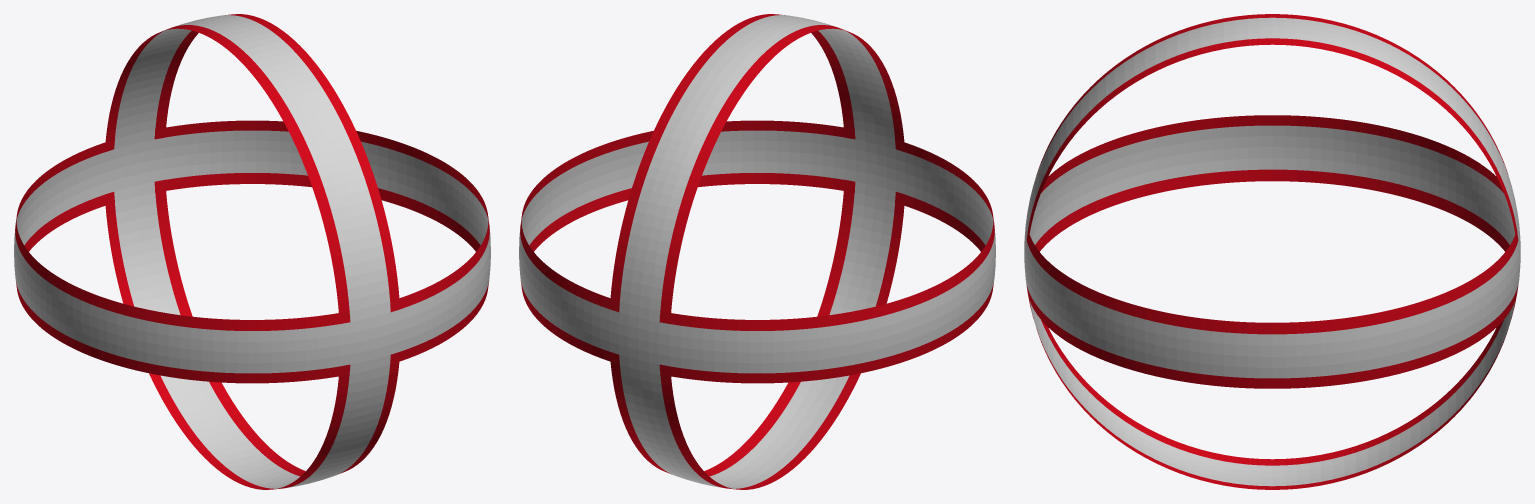
The model's file is planet5.fbx.
3 views of the same model, side by side, from view 1: azimuth 30°, elevation 25°; view 2: azimuth 150°, elevation 25°; view 3: azimuth 270°, elevation 25° (orthographic). The views are drawn at different scales.
Parts seen in each view (by area): view 1: Sphere; view 2: Sphere; view 3: Sphere.
Part boxes in pixels (left/top/right/bottom): Sphere: left=14, top=14, right=490, bottom=489; Sphere: left=519, top=14, right=995, bottom=489; Sphere: left=1024, top=14, right=1520, bottom=489.
Bounding box in the file's own units: 200 × 200 × 200.
